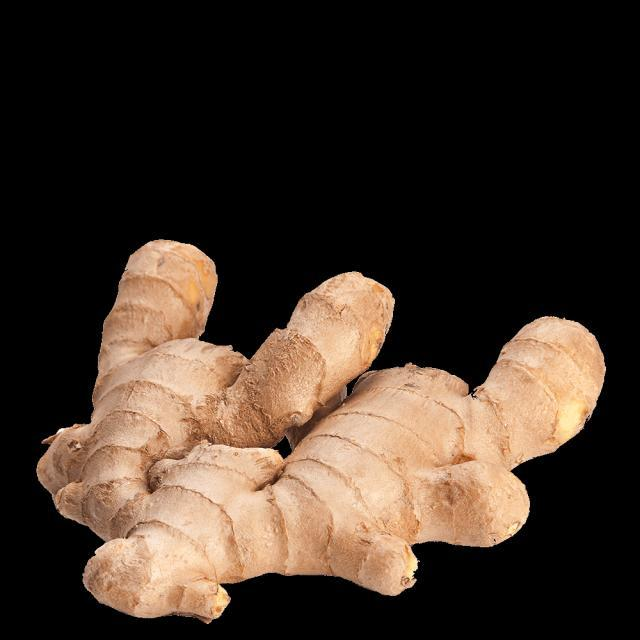ginger: (27, 221, 624, 631)
